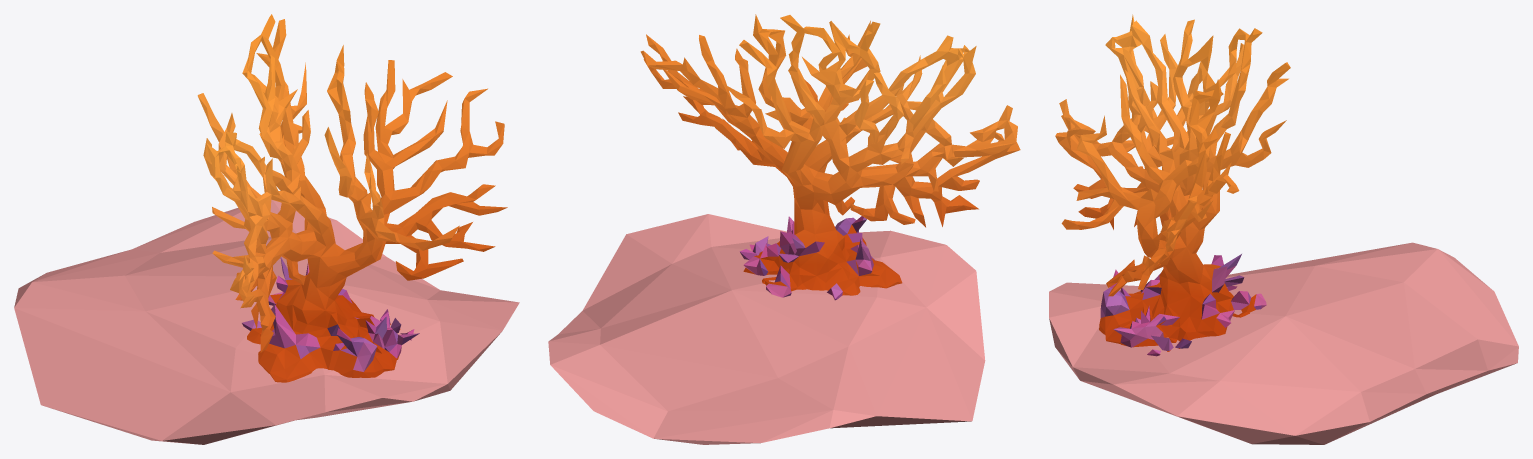
The model's file is Coralls_018.glb.
The picture shows the model from 3 angles, left to right: view 1: azimuth 30°, elevation 25°; view 2: azimuth 150°, elevation 25°; view 3: azimuth 270°, elevation 25°; orthographic projection. The views are drawn at different scales.
Parts seen in each view (by area): view 1: Coralls_018; view 2: Coralls_018; view 3: Coralls_018.
Boxes of the visible parts, x1=… form: Coralls_018: x1=14, y1=14, x2=519, y2=444; Coralls_018: x1=548, y1=14, x2=1020, y2=444; Coralls_018: x1=1049, y1=14, x2=1518, y2=444.
Bounding box in the file's own units: 2.06 × 1.88 × 2.12.
Materials: 2 (2 with a texture image).
